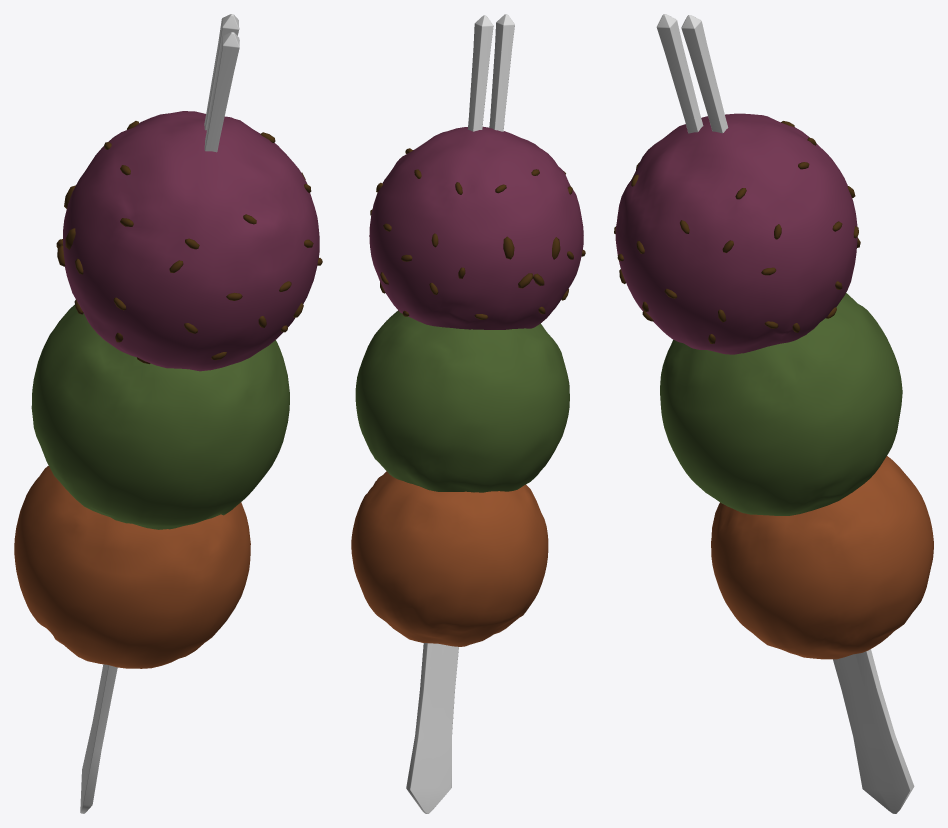
The model's file is bunny_dango_low.fbx.
The picture shows the model from 3 angles, left to right: view 1: azimuth 30°, elevation 25°; view 2: azimuth 150°, elevation 25°; view 3: azimuth 270°, elevation 25°; orthographic projection. The views are drawn at different scales.
Parts seen in each view (by area): view 1: dango_geo, dango_stake_geo; view 2: dango_geo, dango_stake_geo; view 3: dango_geo, dango_stake_geo.
Part boxes in pixels (x1,y1,x2,y2): dango_geo: (14,111,322,668); dango_stake_geo: (80,14,239,813); dango_geo: (351,126,585,646); dango_stake_geo: (406,14,514,813); dango_geo: (614,113,933,659); dango_stake_geo: (656,14,914,813).
Bounding box in the file's own units: 7.06 × 25.53 × 9.06.
